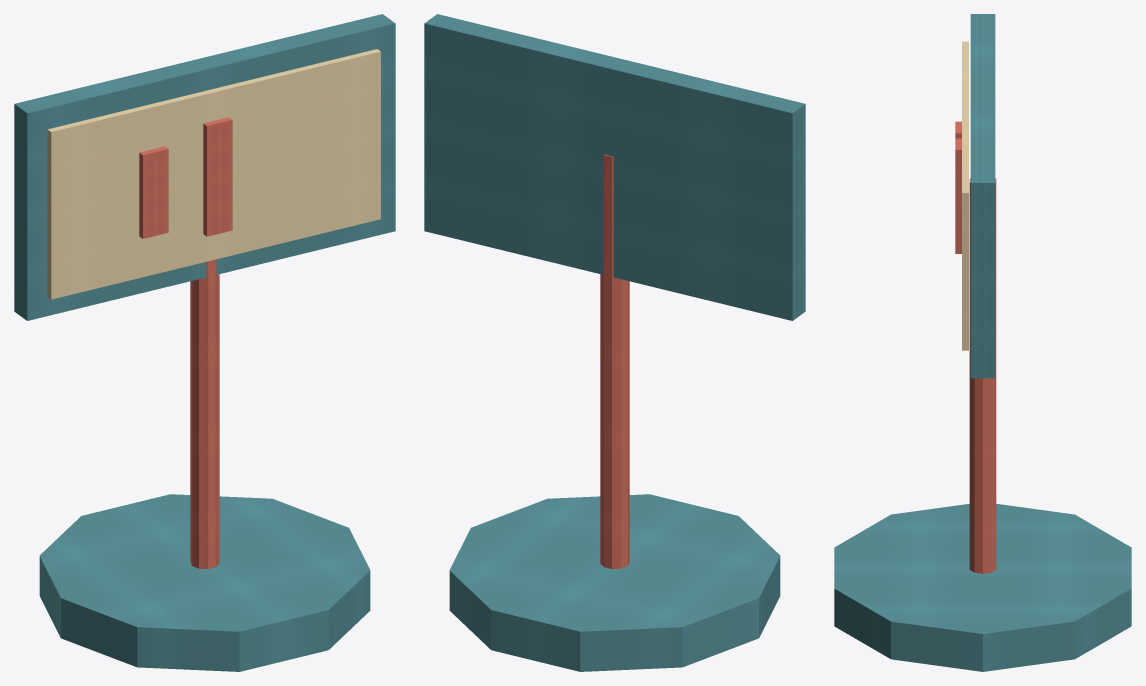
File: atlas100-s073-a11.lod1.glb
The picture shows the model from 3 angles, left to right: view 1: azimuth 30°, elevation 25°; view 2: azimuth 150°, elevation 25°; view 3: azimuth 270°, elevation 25°; orthographic projection. The views are drawn at different scales.
Parts seen in each view (by area): view 1: atlas100-s073-a11:part-003, atlas100-s073-a11:part-000, atlas100-s073-a11:part-002, atlas100-s073-a11:part-001, atlas100-s073-a11:part-005, atlas100-s073-a11:part-004; view 2: atlas100-s073-a11:part-002, atlas100-s073-a11:part-000, atlas100-s073-a11:part-001; view 3: atlas100-s073-a11:part-000, atlas100-s073-a11:part-002, atlas100-s073-a11:part-001, atlas100-s073-a11:part-003, atlas100-s073-a11:part-005.
Part boxes in pixels (bbox=[...]): atlas100-s073-a11:part-003: bbox=[47, 49, 380, 299]; atlas100-s073-a11:part-000: bbox=[39, 494, 370, 671]; atlas100-s073-a11:part-002: bbox=[14, 14, 395, 320]; atlas100-s073-a11:part-001: bbox=[190, 259, 219, 568]; atlas100-s073-a11:part-005: bbox=[203, 117, 232, 236]; atlas100-s073-a11:part-004: bbox=[139, 146, 168, 238]; atlas100-s073-a11:part-002: bbox=[424, 14, 805, 320]; atlas100-s073-a11:part-000: bbox=[449, 494, 780, 671]; atlas100-s073-a11:part-001: bbox=[600, 154, 629, 568]; atlas100-s073-a11:part-000: bbox=[834, 503, 1131, 671]; atlas100-s073-a11:part-002: bbox=[970, 14, 995, 378]; atlas100-s073-a11:part-001: bbox=[969, 178, 996, 573]; atlas100-s073-a11:part-003: bbox=[962, 41, 968, 350]; atlas100-s073-a11:part-005: bbox=[955, 138, 961, 253].
Bounding box in the file's own units: 1.15 × 1.61 × 0.856.
Materials: 3 (3 with a texture image).
